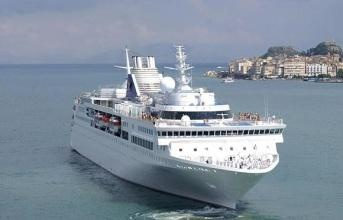youlun: (52, 46, 284, 206)
